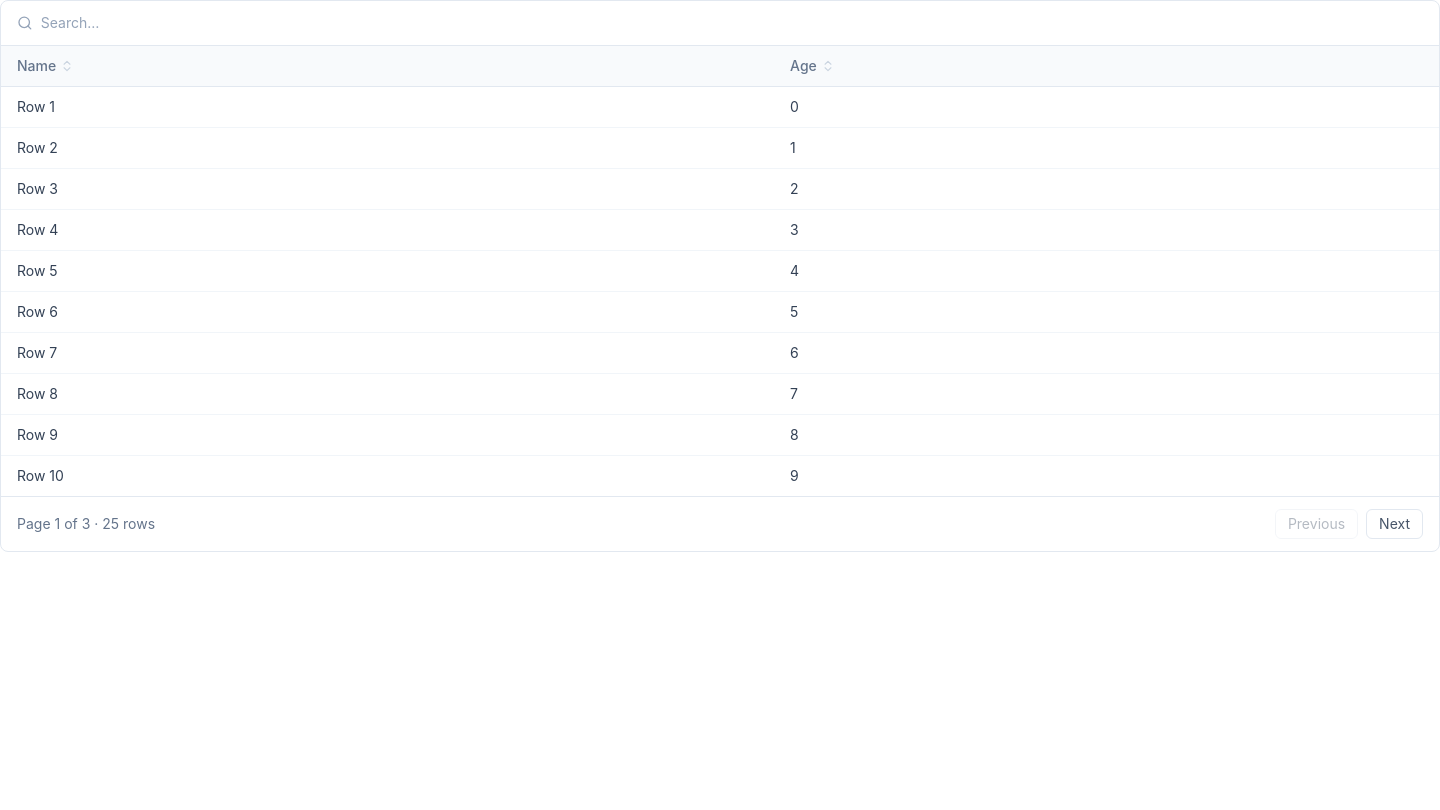
Scenario: DataTable — client mode › paginates: Next/Previous update the visible slice and disable at the boundaries
This screenshot has width=1440, height=810.
Expected: the text "Row 1" is shown, x1=1 y1=86 x2=774 y2=128
Expected: the text "Row 11" is not shown
Click the button "Next" at (1395,524), box x1=1366 y1=509 x2=1423 y2=539
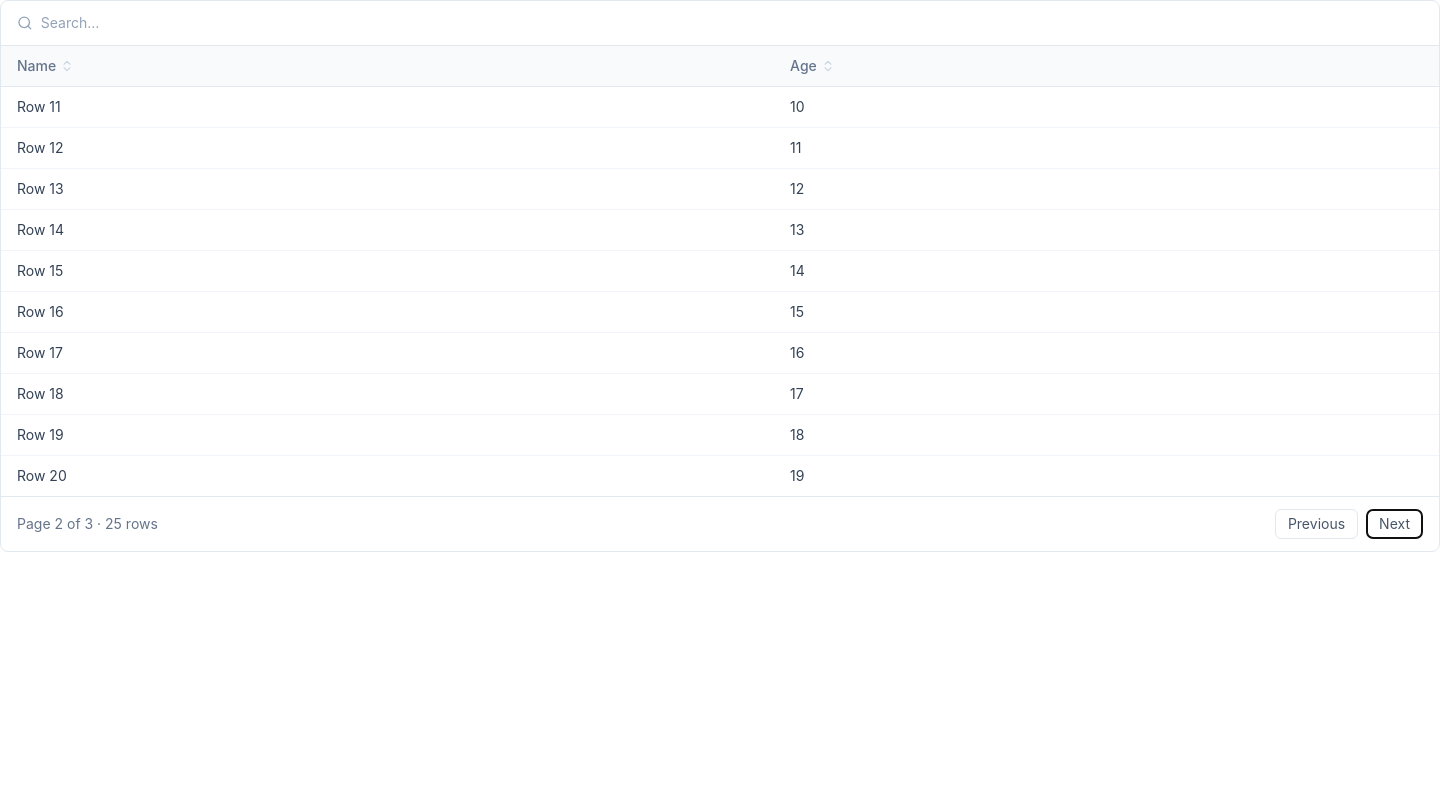
Expected: the text "Row 11" is shown, x1=1 y1=86 x2=774 y2=128
Expected: the button "Previous" is enabled, x1=1275 y1=509 x2=1358 y2=539
Click the button "Next" at (1395,524), box x1=1366 y1=509 x2=1423 y2=539
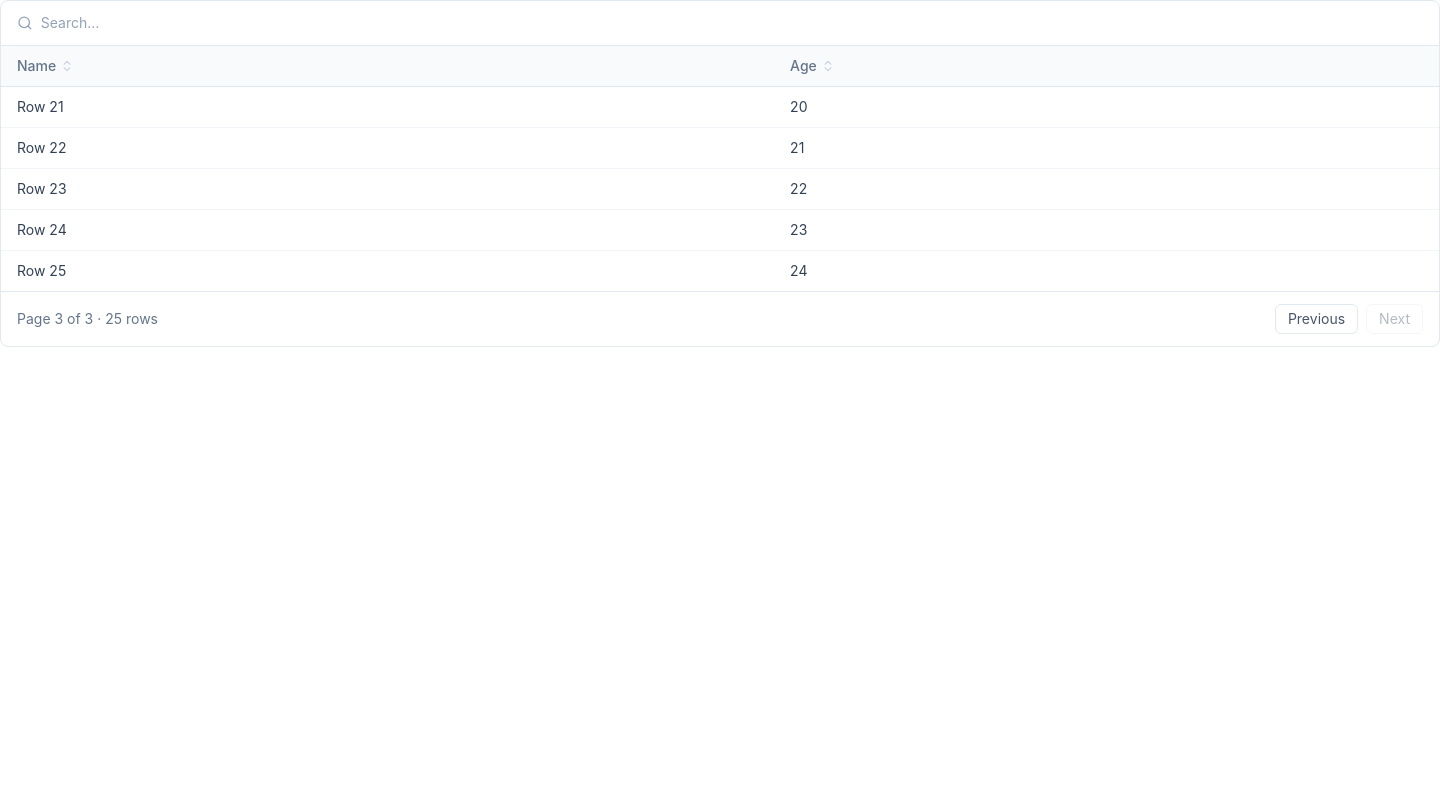
Expected: the text "Row 21" is shown, x1=1 y1=86 x2=774 y2=128
Expected: the button "Next" is disabled, x1=1366 y1=304 x2=1423 y2=334
Click the button "Previous" at (1316,319), box x1=1275 y1=304 x2=1358 y2=334
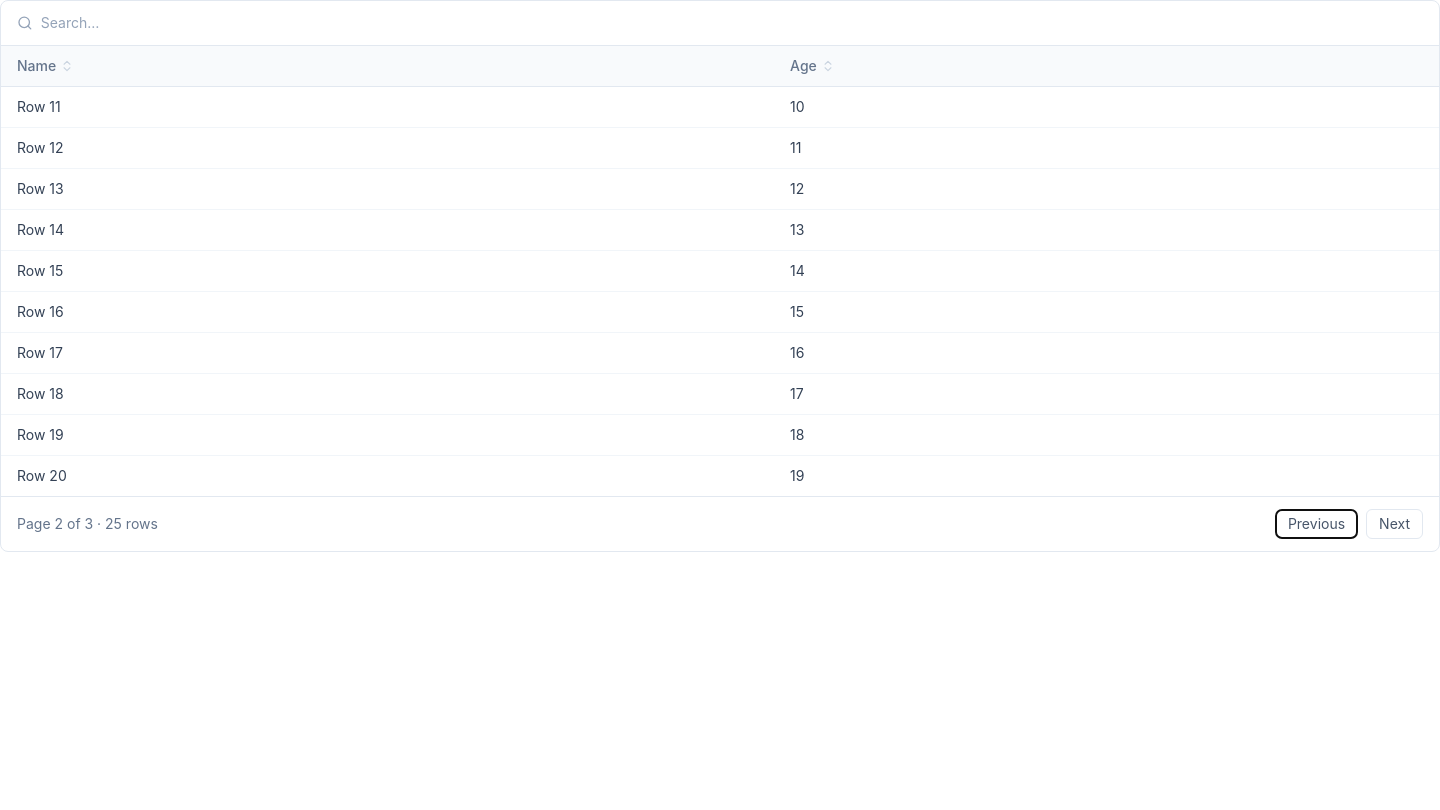
Expected: the text "Row 11" is shown, x1=1 y1=86 x2=774 y2=128
